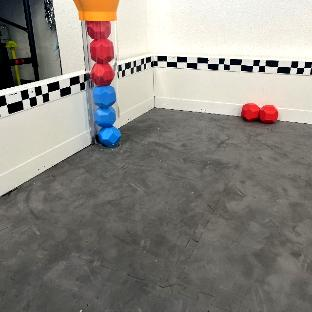V5_BLUE: (93, 85, 120, 145), (94, 84, 115, 106), (98, 126, 120, 146)
V5_RED: (241, 103, 278, 123), (90, 37, 115, 63), (91, 60, 115, 86), (86, 20, 112, 39)
